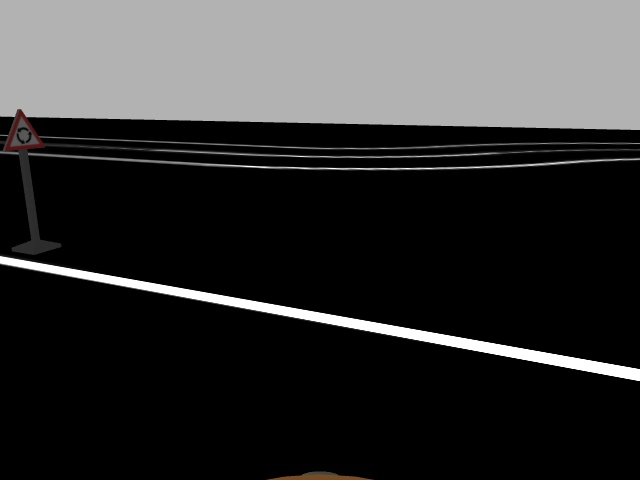roundabout: (4, 109, 47, 151)
